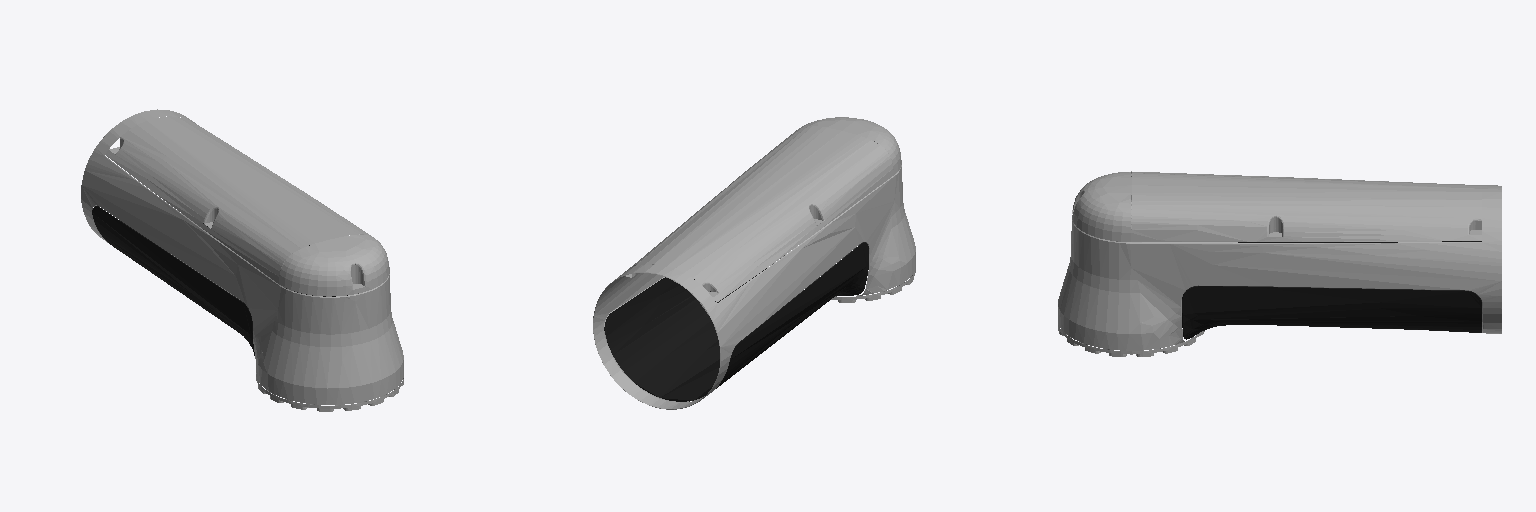
Rendered from arm-L3.obj.
The picture shows the model from 3 angles: view 1: azimuth 30°, elevation 25°; view 2: azimuth 150°, elevation 25°; view 3: azimuth 270°, elevation 25°; orthographic projection.
Parts seen in each view (by area): view 1: __TMPOBJ_____TMPMESH__.058; view 2: __TMPOBJ_____TMPMESH__.058; view 3: __TMPOBJ_____TMPMESH__.058.
Part boxes in pixels (x1,y1,x2,y2): __TMPOBJ_____TMPMESH__.058: (81, 109, 403, 411); __TMPOBJ_____TMPMESH__.058: (593, 117, 915, 409); __TMPOBJ_____TMPMESH__.058: (1058, 171, 1501, 356).
Bounding box in the file's own units: 0.074 × 0.078 × 0.2219.